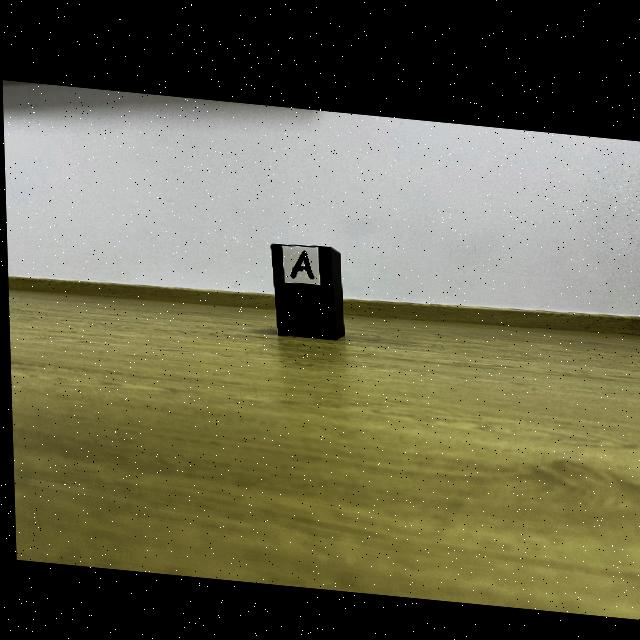A: (290, 245, 312, 274)
